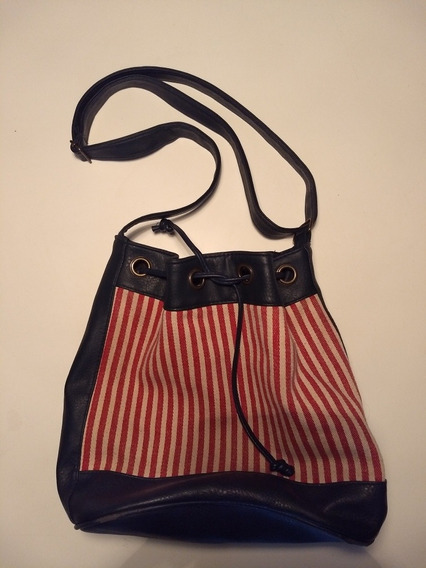cartera: (57, 64, 391, 553)
